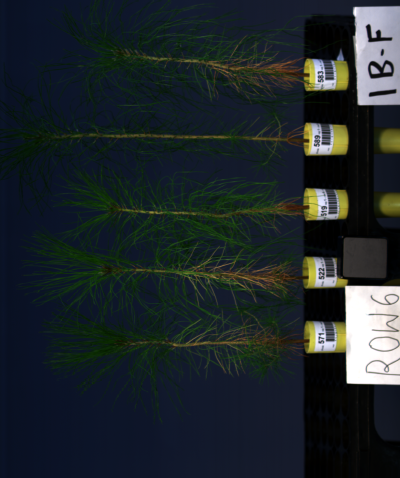tube: (303, 57, 350, 93), (301, 317, 348, 353), (301, 254, 348, 290), (302, 185, 349, 221), (301, 119, 348, 155)
